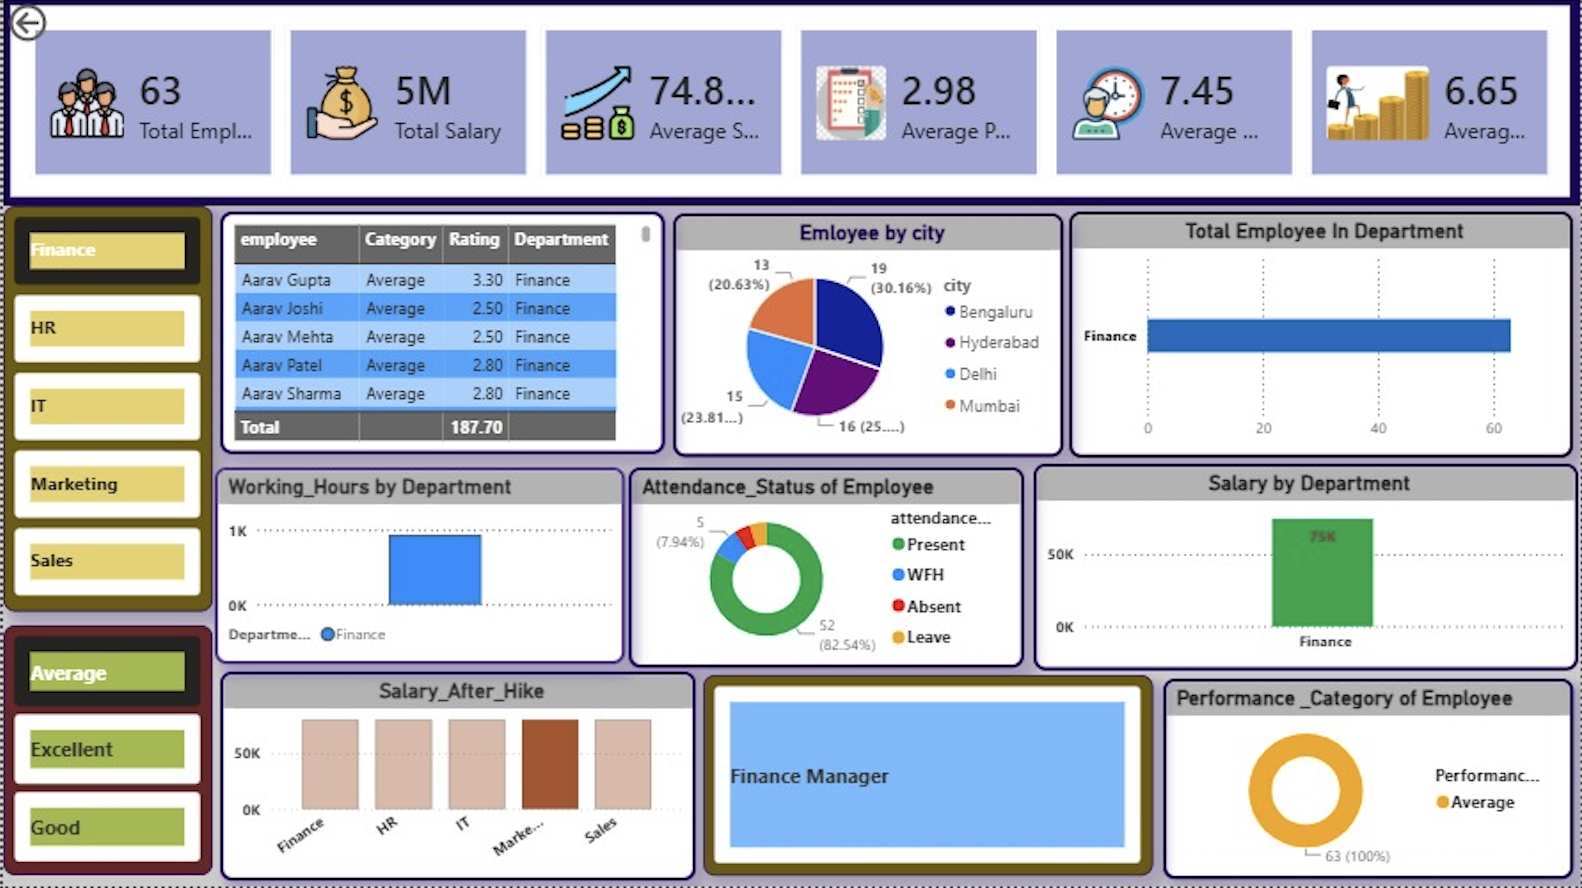

The dashboard page shown, as its layout file describes it:
{"tool":"powerbi","page":{"name":"Page 1","canvas":[1280,720],"ordinal":0},"visuals":[{"type":"cardVisual","fields":{"Data":["Count(employees.Employee_ID)","Sum(master_data.Monthly_Salary)","Avg(master_data.Monthly_Salary)","Avg(master_data.Performance_Rating)","Avg(master_data.Working_Hours)","Avg(master_data.Salary_Hike_%)"]},"box":[0,0,1280,168],"z":0},{"type":"clusteredBarChart","title":"Total Employee In Department","fields":{"Category":["master_data.Department_Name"],"Y":["CountNonNull(master_data.Employee_ID)"]},"box":[865.1,173,409.9,199.9],"z":1000},{"type":"pieChart","title":"Emloyee by city","fields":{"Category":["master_data.city"],"Y":["CountNonNull(master_data.Employee_ID)"]},"box":[542.6,174.7,317.5,198.2],"z":2000},{"type":"clusteredColumnChart","title":"Salary by Department","fields":{"Category":["master_data.Department_Name"],"Y":["Avg(master_data.Monthly_Salary)"]},"box":[834.9,378,441.8,168],"z":3000},{"type":"donutChart","title":"Performance _Category of Employee","fields":{"Category":["master_data.Performance _Category"],"Y":["CountNonNull(master_data.Employee_ID)"]},"box":[940.7,551,332.6,162.9],"z":4000},{"type":"donutChart","title":"Attendance_Status of Employee","fields":{"Y":["CountNonNull(master_data.Employee_ID)"],"Category":["master_data.attendance_Status"]},"box":[507.3,379.6,320.8,162.9],"z":5000},{"type":"advancedSlicerVisual","fields":{"Values":["master_data.Department_Name"]},"box":[0,168,169.7,329.2],"z":6000},{"type":"advancedSlicerVisual","fields":{"Values":["master_data.Role_name"]},"box":[567.8,549.3,364.5,162.9],"z":7000},{"type":"advancedSlicerVisual","fields":{"Values":["master_data.Performance _Category"]},"box":[0,509,169.7,203.3],"z":8000},{"type":"tableEx","fields":{"Values":["master_data.employee_name","master_data.Performance _Category","Sum(master_data.Performance_Rating)","master_data.Department_Name"]},"box":[176.4,173,361.2,196.5],"z":9000},{"type":"actionButton","box":[0,0,100,40],"z":10000},{"type":"clusteredColumnChart","title":"Salary_After_Hike","fields":{"Category":["departments.Department_Name"],"Y":["Avg(master_data.Salary_After_Hike)"]},"box":[176.4,545.9,386.4,169.7],"z":11000},{"type":"clusteredColumnChart","title":" Working_Hours by Department","fields":{"Series":["master_data.Department_Name"],"Y":["Sum(master_data.Working_Hours)"]},"box":[171.3,379.6,332.6,159.6],"z":12000}]}

Visuals, with their boxes in screenshot pixels (x1, y1, x2, y2), scaled from the page's 1280x720 canvas onto the 1582x888 screenshot:
cardVisual - Count(employees.Employee_ID) x Sum(master_data.Monthly_Salary): x1=0 y1=0 x2=1581 y2=207
"Total Employee In Department" clusteredBarChart: x1=1069 y1=213 x2=1576 y2=460
"Emloyee by city" pieChart: x1=671 y1=215 x2=1063 y2=460
"Salary by Department" clusteredColumnChart: x1=1032 y1=466 x2=1578 y2=673
"Performance _Category of Employee" donutChart: x1=1163 y1=680 x2=1574 y2=880
"Attendance_Status of Employee" donutChart: x1=627 y1=468 x2=1023 y2=669
advancedSlicerVisual - master_data.Department_Name: x1=0 y1=207 x2=210 y2=613
advancedSlicerVisual - master_data.Role_name: x1=702 y1=677 x2=1152 y2=878
advancedSlicerVisual - master_data.Performance _Category: x1=0 y1=628 x2=210 y2=879
tableEx - master_data.employee_name x master_data.Performance _Category: x1=218 y1=213 x2=664 y2=456
actionButton: x1=0 y1=0 x2=124 y2=49
"Salary_After_Hike" clusteredColumnChart: x1=218 y1=673 x2=696 y2=883
" Working_Hours by Department" clusteredColumnChart: x1=212 y1=468 x2=623 y2=665
